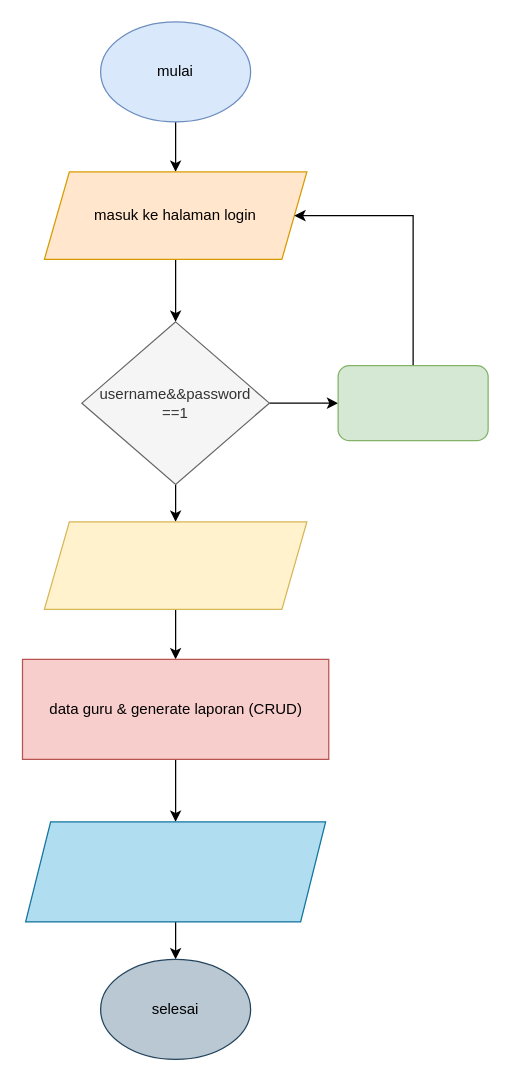
Some shapes in this 510 by 1081 pixel diagram are drawn without their labels. The shapes that lost their labels are listed below. From the top down, each one's centre as x and y in pixels, then its label:
At point (412, 402): "kembali ke form login".
At point (175, 565): "masuk ke halaman sekolah".
At point (175, 871): "siswa akan logout jika selesai".
